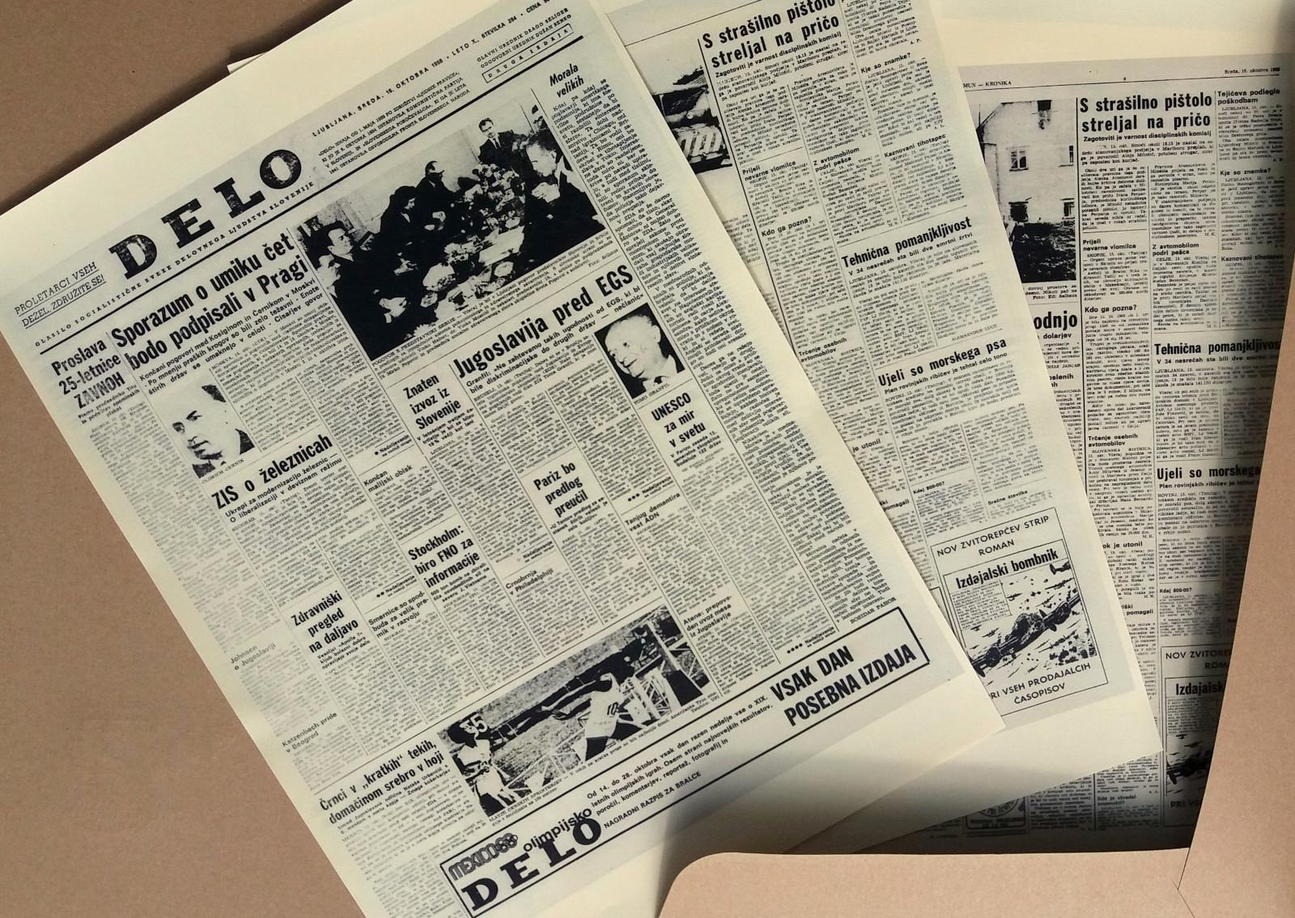paper: (0, 0, 1286, 918)
